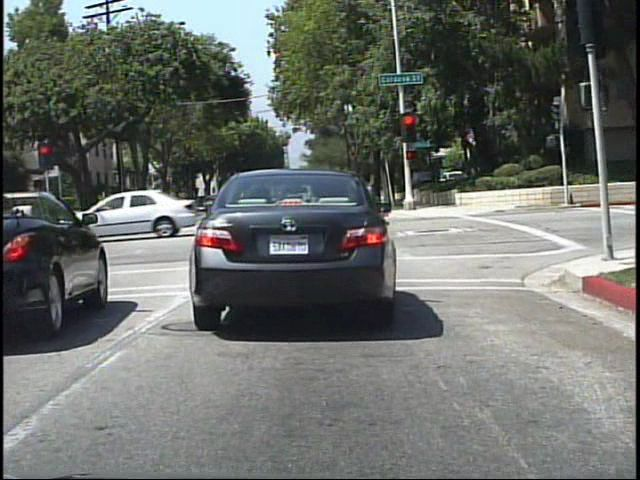car: (192, 164, 387, 333), (1, 192, 125, 334), (75, 186, 193, 241)
strada: (1, 295, 640, 479)
